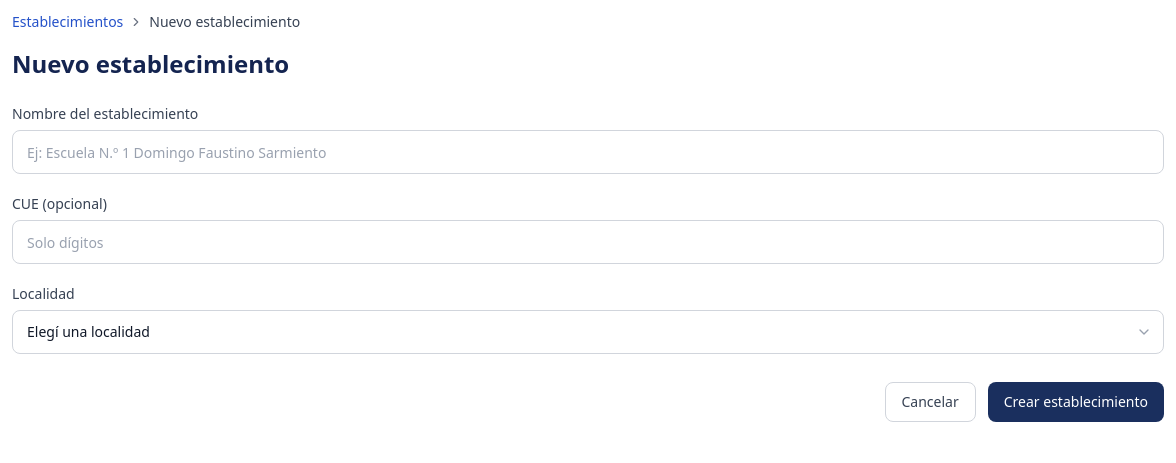
it: EstablecimientoFormPage: alta › sin localidad elegida muestra un error y no guarda
Type "Escuela Nueva" into the field labelled "Nombre del establecimiento" at (588, 152), box left=12, top=130, right=1164, bottom=174
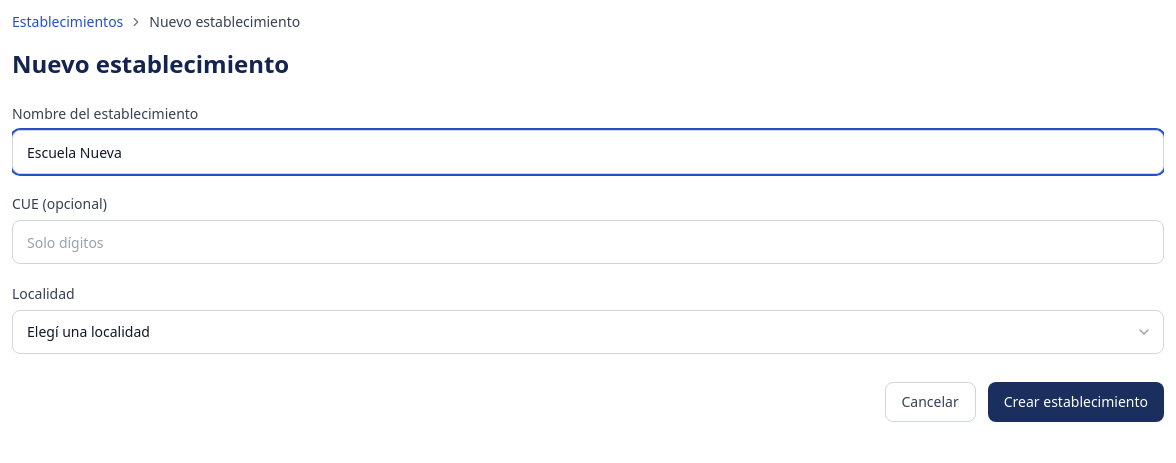
Click the button "Crear establecimiento" at (1076, 402), box left=988, top=382, right=1164, bottom=422
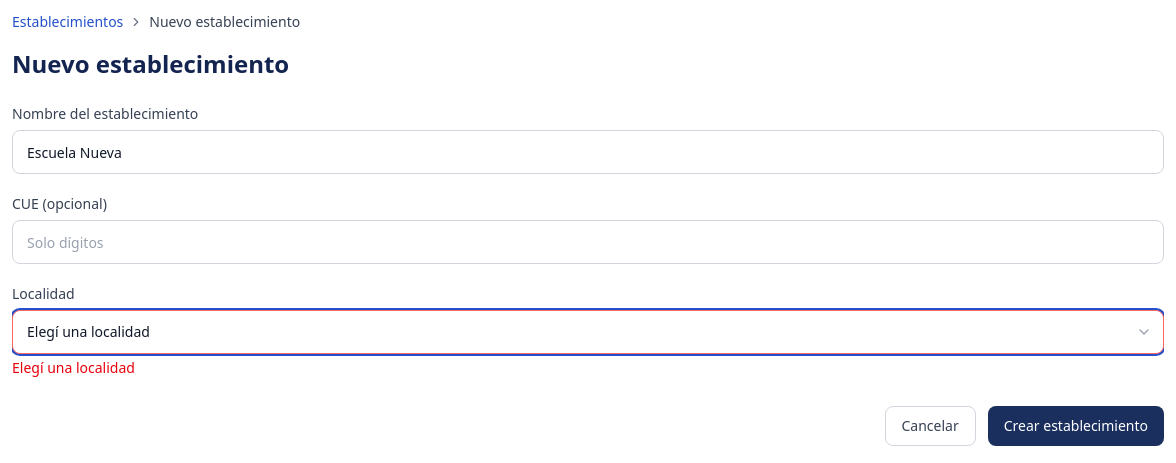
Expected: the message "Elegí una localidad" is shown, left=12, top=358, right=135, bottom=377
